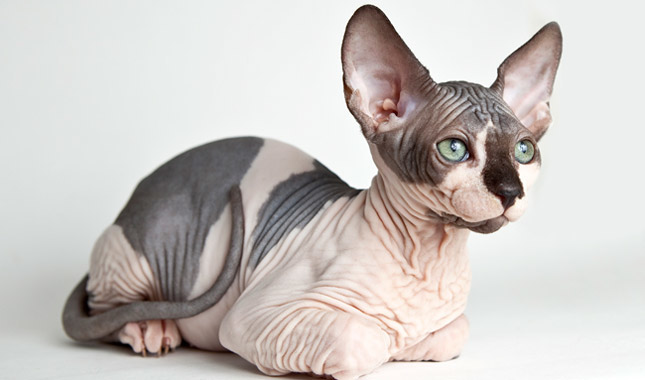cat: (59, 3, 566, 377)
